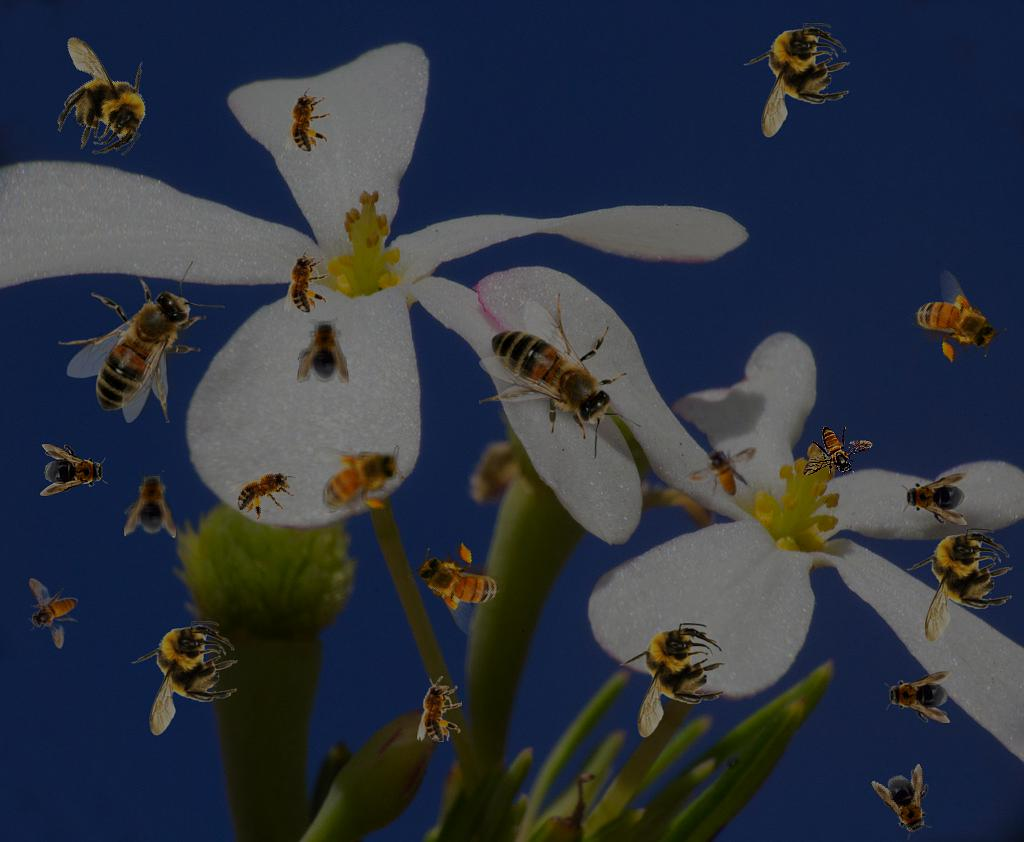Bee: (479, 292, 641, 459), (58, 261, 225, 423), (20, 18, 177, 173), (898, 264, 1012, 379), (402, 526, 516, 641), (906, 528, 1013, 643), (743, 23, 850, 138), (131, 621, 238, 736), (619, 623, 726, 738), (311, 445, 404, 513), (870, 761, 946, 842), (227, 455, 307, 528), (28, 578, 78, 649), (802, 426, 873, 476), (686, 447, 757, 497), (297, 317, 349, 385), (884, 671, 952, 723), (40, 444, 108, 496), (124, 470, 176, 538), (901, 473, 969, 525), (284, 247, 329, 313), (417, 676, 462, 742), (285, 86, 330, 152)
